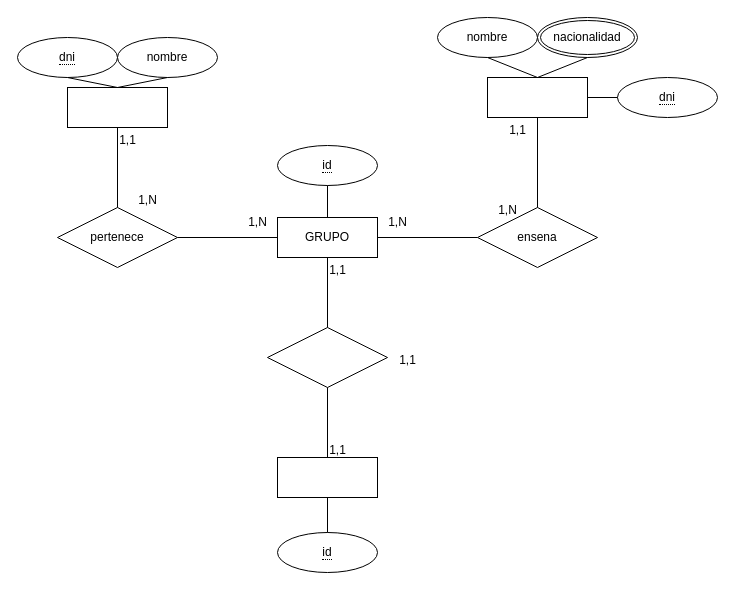
Some shapes in this 735 by 590 pixel diagram are drawn without their labels. Here are the shapes that lost their labels. From the top down, the centre of each, then its label:
pixel 117 107: PERSONA
pixel 537 97: PROFESOR
pixel 327 357: tiene
pixel 327 477: NIVEL
